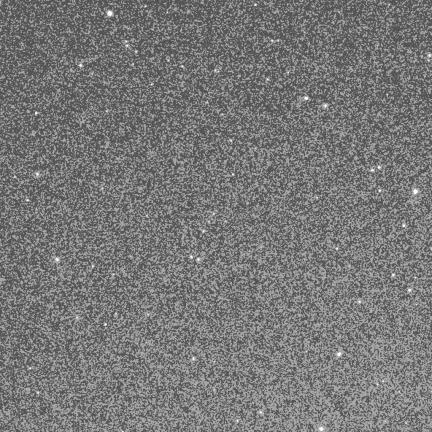blob: (107, 11, 113, 16), (414, 189, 419, 195), (324, 104, 328, 108), (36, 173, 40, 177), (305, 97, 309, 101), (197, 258, 200, 262), (92, 265, 95, 269), (36, 112, 39, 116), (429, 54, 432, 58), (371, 168, 374, 172), (76, 316, 79, 320), (79, 64, 83, 67), (126, 44, 129, 48), (403, 224, 406, 228), (105, 323, 108, 327), (230, 139, 233, 143), (190, 255, 193, 259), (408, 289, 412, 292), (254, 3, 257, 7), (192, 357, 195, 361), (338, 352, 341, 356), (378, 166, 381, 170), (26, 199, 30, 202), (359, 300, 362, 304), (392, 274, 395, 277), (232, 173, 235, 176), (379, 189, 382, 192), (14, 176, 17, 179), (56, 258, 59, 261), (37, 392, 40, 395), (213, 213, 216, 216), (336, 248, 339, 251), (260, 411, 262, 414), (135, 50, 137, 53), (148, 314, 150, 316)
